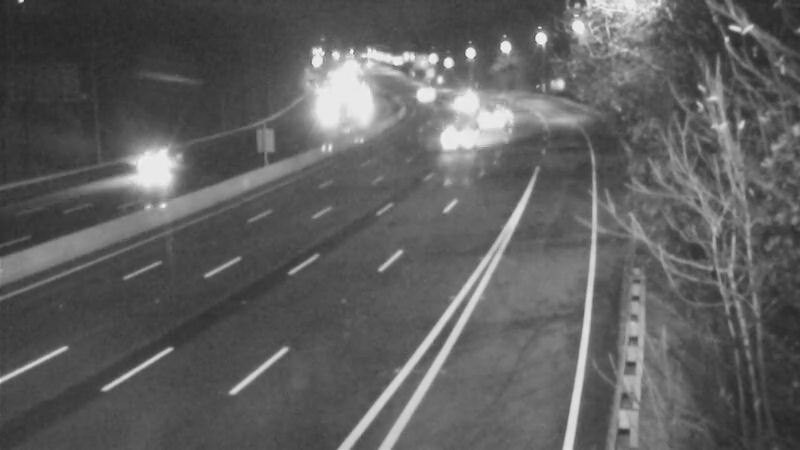vehicle: (108, 131, 188, 211), (396, 68, 446, 118), (434, 75, 484, 125), (471, 90, 521, 140), (432, 108, 482, 158), (300, 84, 350, 134)
